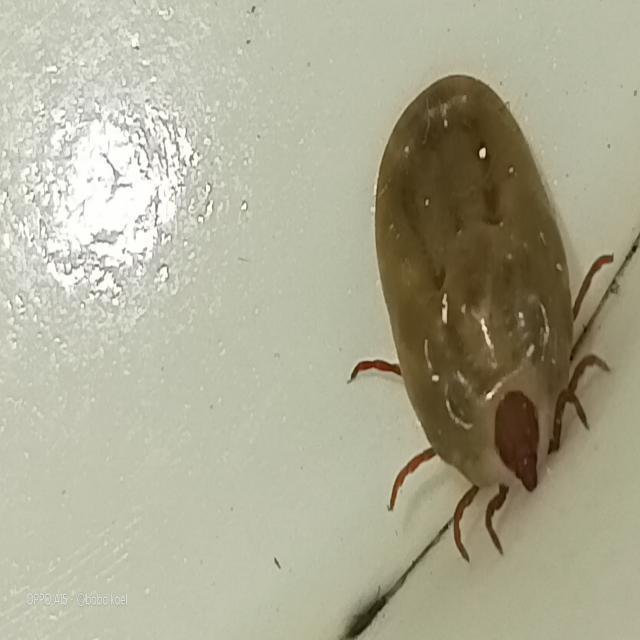Rhipicephalus Sanguineus-F-Fed: (349, 75, 613, 565)
